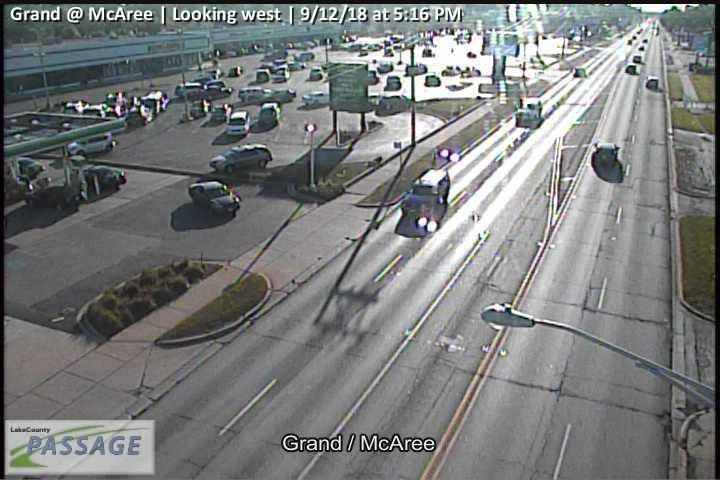SUV: (401, 168, 450, 221), (66, 131, 112, 157)
Sedan: (187, 181, 242, 216), (210, 144, 272, 175), (514, 98, 542, 122), (226, 111, 249, 135), (258, 102, 281, 124), (594, 142, 618, 163), (237, 87, 268, 101), (303, 91, 330, 105), (269, 89, 296, 102), (645, 75, 658, 86), (625, 63, 637, 74), (573, 66, 585, 76)
